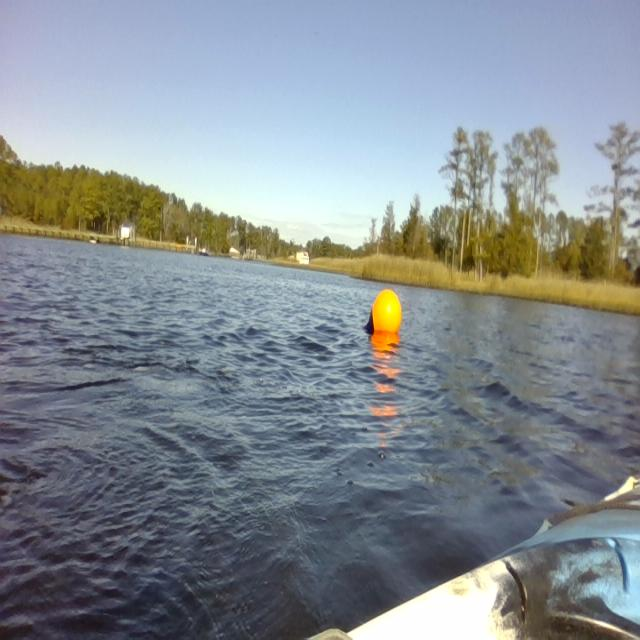Buoy: (359, 283, 407, 346)
